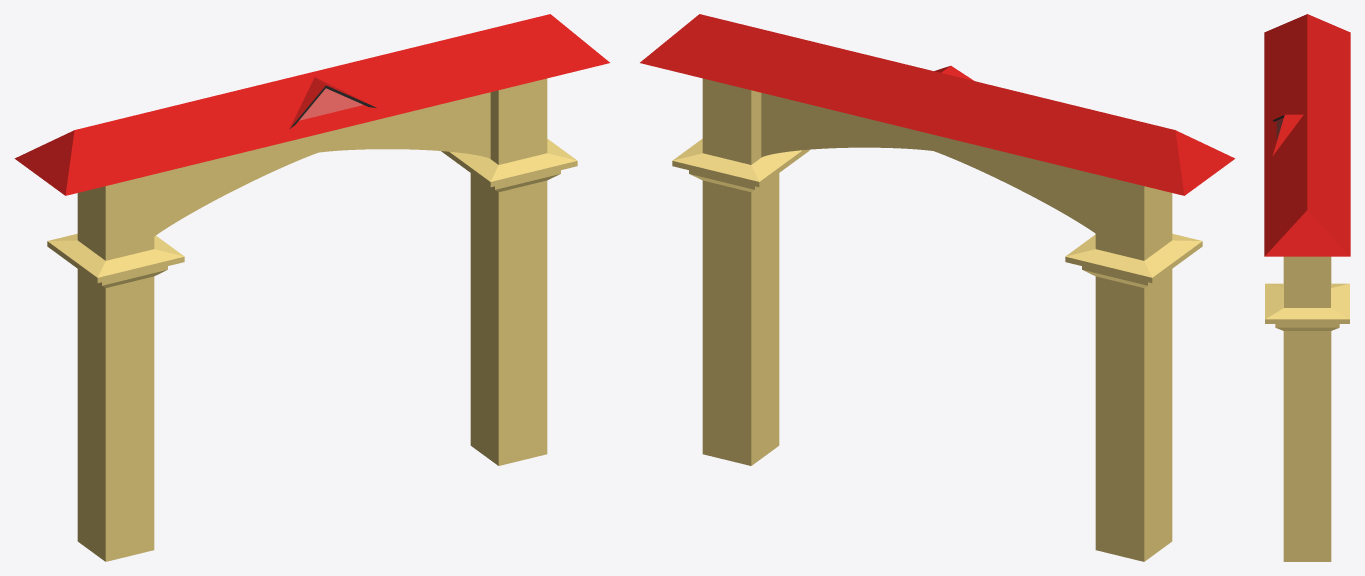
The model's file is GateArch.glb.
The picture shows the model from 3 angles, left to right: view 1: azimuth 30°, elevation 25°; view 2: azimuth 150°, elevation 25°; view 3: azimuth 270°, elevation 25°; orthographic projection. The views are drawn at different scales.
Visible parts, largest first — view 1: gate_roof_Plane.001; view 2: gate_roof_Plane.001; view 3: gate_roof_Plane.001.
Boxes of the visible parts, x1,y1,x2,y2 form: gate_roof_Plane.001: (14,14,609,561); gate_roof_Plane.001: (640,14,1235,561); gate_roof_Plane.001: (1264,14,1350,561).
Bounding box in the file's own units: 17.16 × 12.81 × 2.79.
